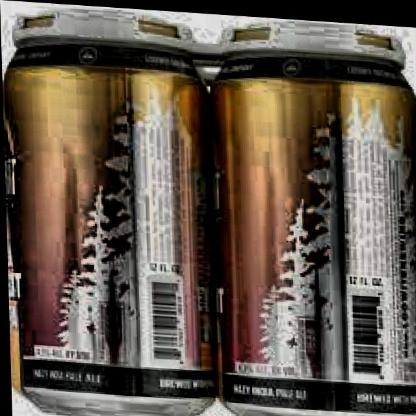Can: (0, 0, 216, 416), (206, 12, 416, 416)
